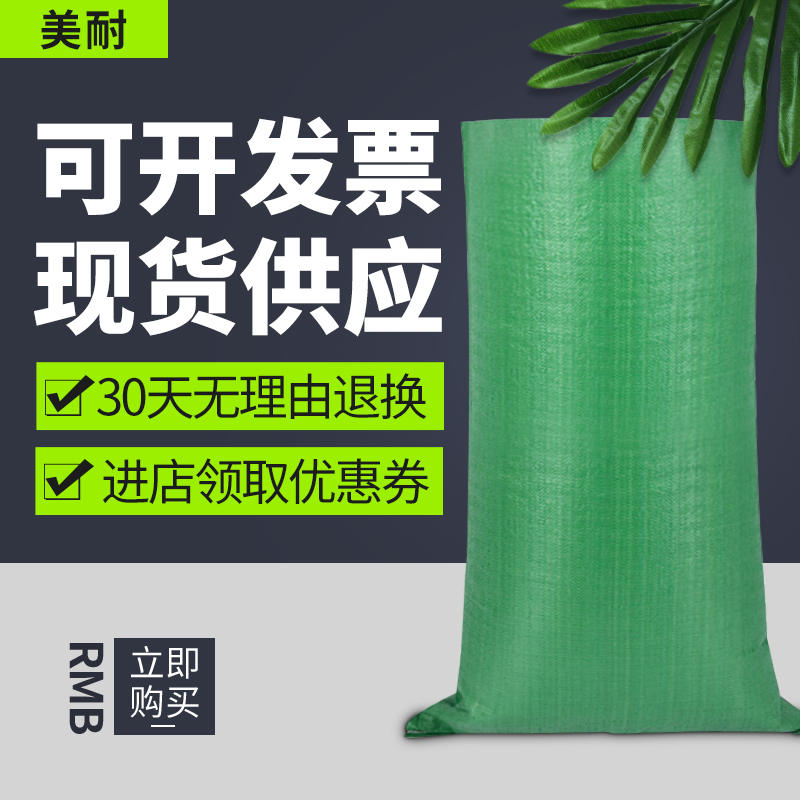塑料袋: (407, 119, 799, 734)
